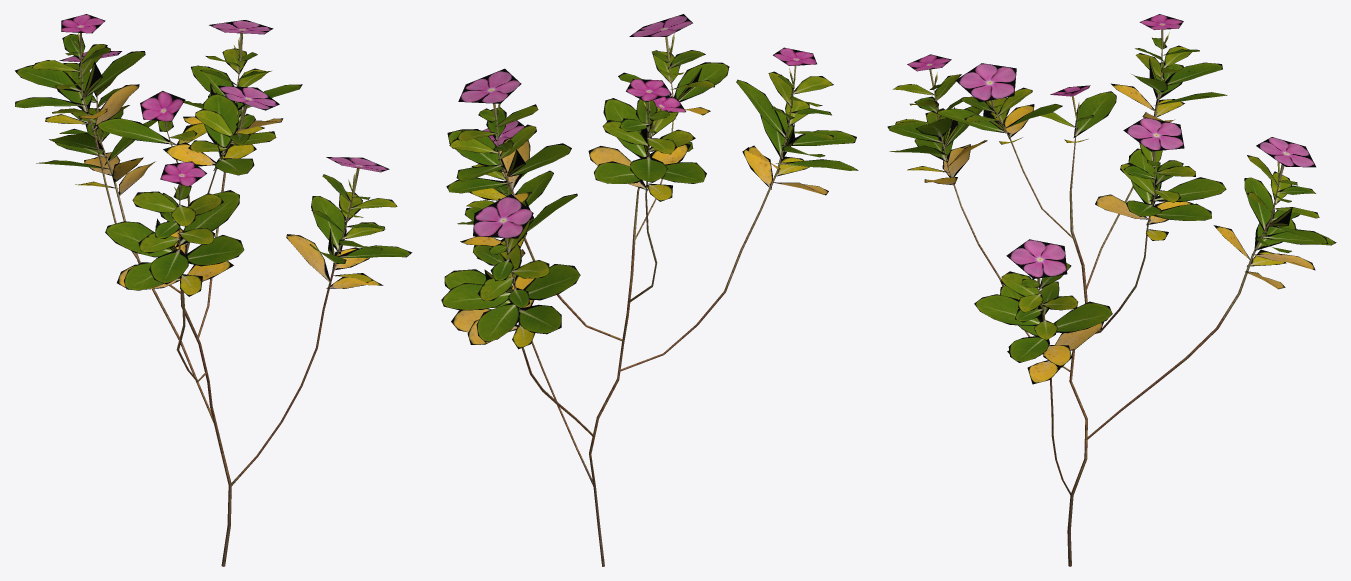
File: periwinkle_a.glb
The picture shows the model from 3 angles, left to right: view 1: azimuth 30°, elevation 25°; view 2: azimuth 150°, elevation 25°; view 3: azimuth 270°, elevation 25°; orthographic projection. The views are drawn at different scales.
Parts seen in each view (by area): view 1: periwinkle_a; view 2: periwinkle_a; view 3: periwinkle_a.
Part boxes in pixels (left/top/right/bottom): periwinkle_a: left=15, top=14, right=412, bottom=566; periwinkle_a: left=441, top=14, right=858, bottom=566; periwinkle_a: left=887, top=14, right=1336, bottom=566.
Bounding box in the file's own units: 0.2635 × 0.3974 × 0.3224.
Materials: 1 (1 with a texture image).
